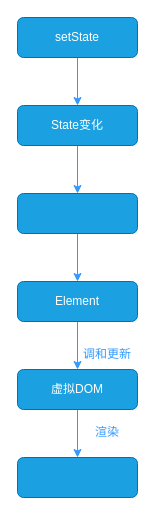
Image size: 155x515. Some labels were removed from this diagram. Here are the shapes that lost their labels. From the top down, the box of each, then its label:
(16, 192, 138, 234): 组件重新渲染
(16, 456, 138, 498): 真实DOM
